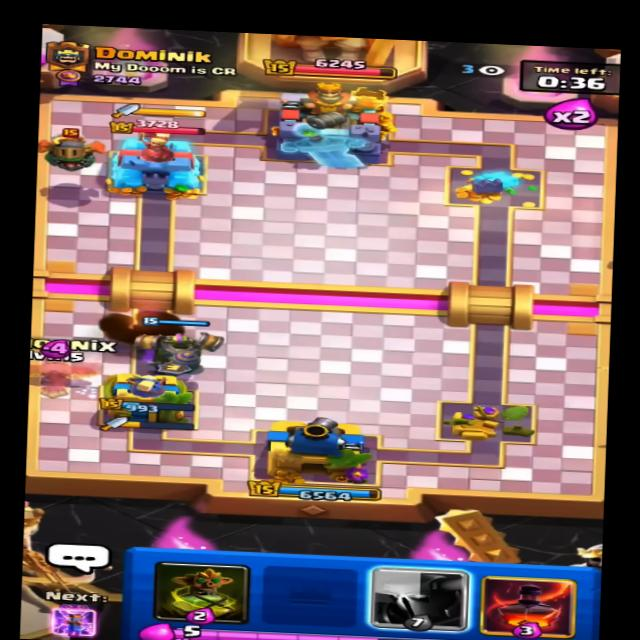inferno-dragon: (34, 118, 108, 173)
